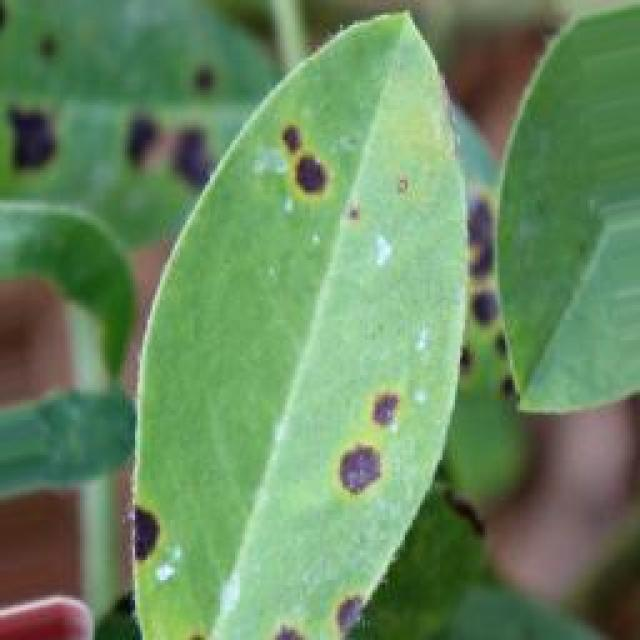Early_leaf_spot: (432, 175, 563, 381), (87, 42, 226, 178), (63, 455, 185, 575), (325, 375, 415, 509), (0, 47, 65, 176), (241, 589, 388, 640), (268, 112, 337, 214)
